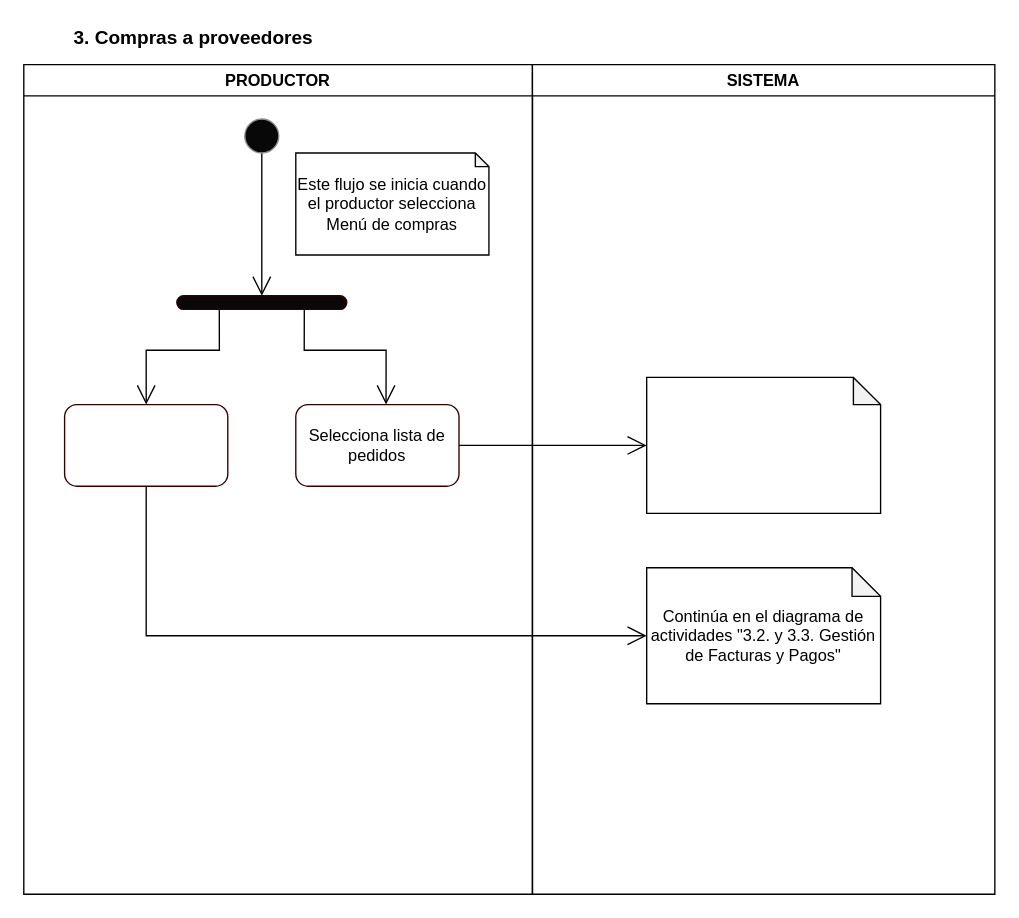
Image size: 1019x918. Some labels were removed from this diagram. Here are the shapes that lost their labels. From the top down, the centre of each, then its label:
point 145,444: Selecciona lista de facturas
point 763,444: Continúa en el diagrama de actividades "3.1. Administración de pedidos"
